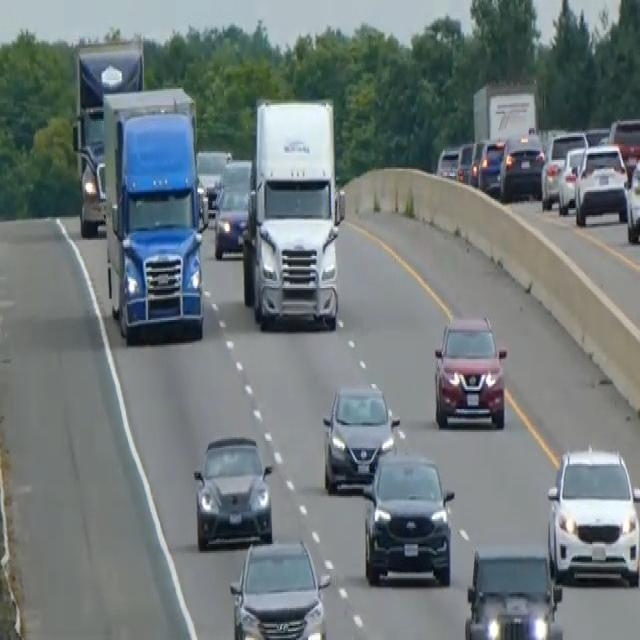car: (545, 442, 639, 586), (362, 448, 455, 587), (229, 535, 330, 638), (192, 432, 274, 549), (463, 544, 562, 638), (432, 311, 507, 430), (321, 378, 399, 492), (573, 140, 629, 226), (499, 131, 545, 201), (213, 182, 250, 260), (195, 146, 231, 206), (557, 144, 587, 213), (607, 116, 639, 180), (477, 137, 505, 192), (540, 154, 563, 210), (625, 156, 639, 244), (220, 156, 252, 194), (468, 137, 486, 187), (436, 142, 459, 180), (456, 139, 475, 183)
lorry: (101, 85, 207, 343), (241, 92, 346, 330), (70, 35, 144, 236)
